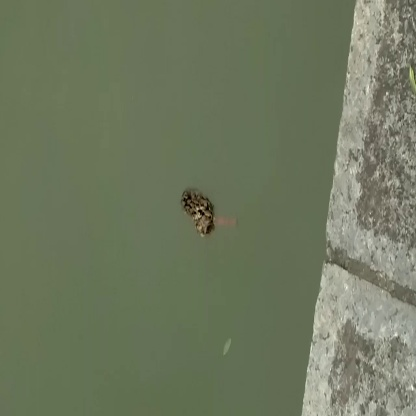leaf: (173, 181, 250, 242)
